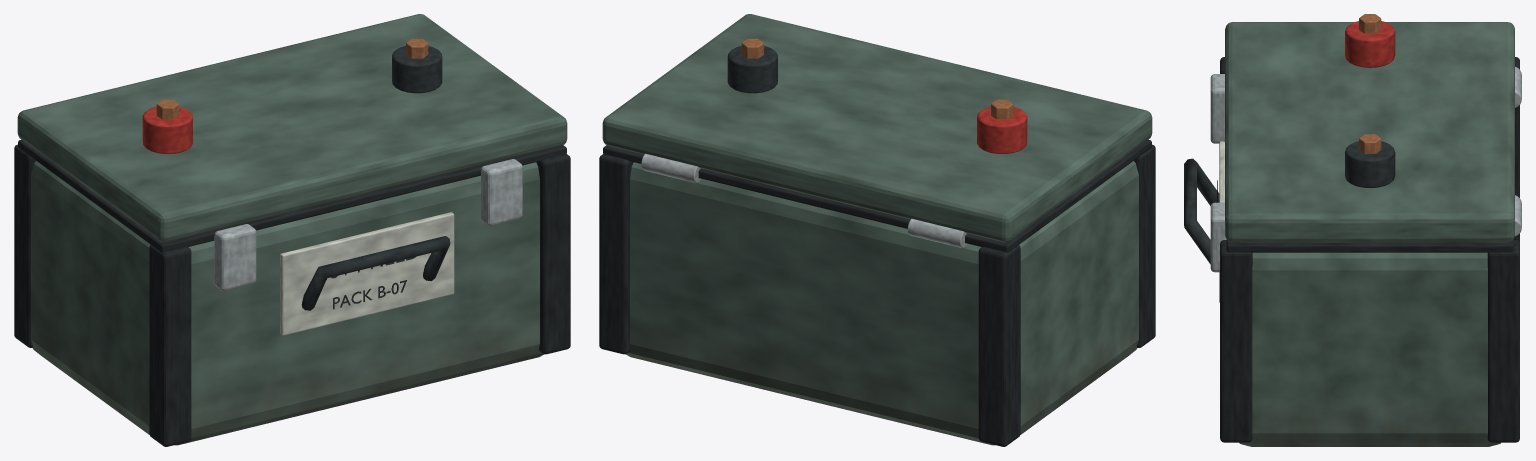
Rendered from GR_BatteryCase_02.glb.
The picture shows the model from 3 angles, left to right: view 1: azimuth 30°, elevation 25°; view 2: azimuth 150°, elevation 25°; view 3: azimuth 270°, elevation 25°; orthographic projection.
Parts seen in each view (by area): view 1: Static; view 2: Static; view 3: Static.
Part boxes in pixels (<box>): Static: <box>14,14,570,446</box>; Static: <box>599,14,1155,446</box>; Static: <box>1184,14,1521,446</box>.
Size of the model in its own units: 0.688 by 0.4555 by 0.4985.
1 material, 1 textured.
